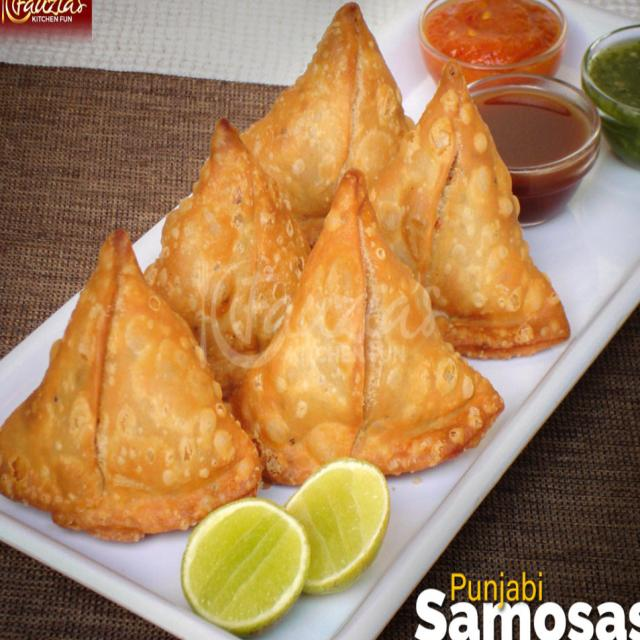samosa: (268, 154, 570, 472), (0, 224, 265, 529)
